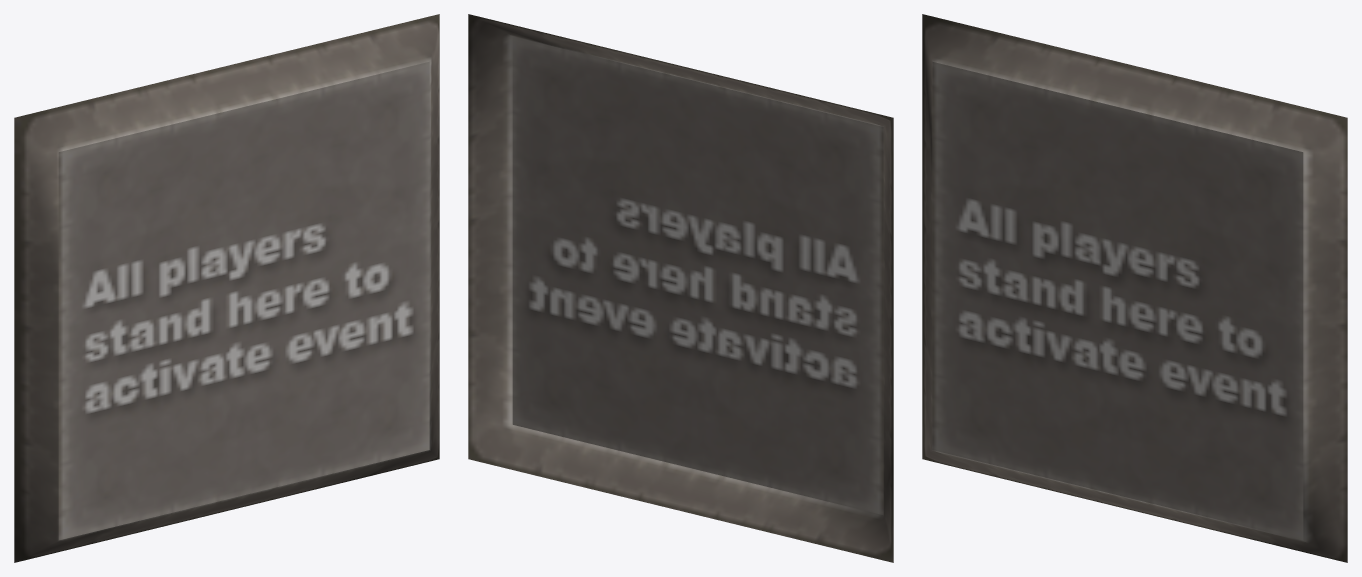
File: temp start.glb
3 views of the same model, side by side, from view 1: azimuth 30°, elevation 25°; view 2: azimuth 150°, elevation 25°; view 3: azimuth 330°, elevation 25° (orthographic).
Parts seen in each view (by area): view 1: temp_start.model-Mesh[0]; view 2: temp_start.model-Mesh[0]; view 3: temp_start.model-Mesh[0].
Part boxes in pixels (x1,y1,x2,y2): temp_start.model-Mesh[0]: (14,14,439,562); temp_start.model-Mesh[0]: (468,14,893,562); temp_start.model-Mesh[0]: (922,14,1347,562).
Bounding box in the file's own units: 3 × 3 × 0.2105.
1 material, 1 textured.
